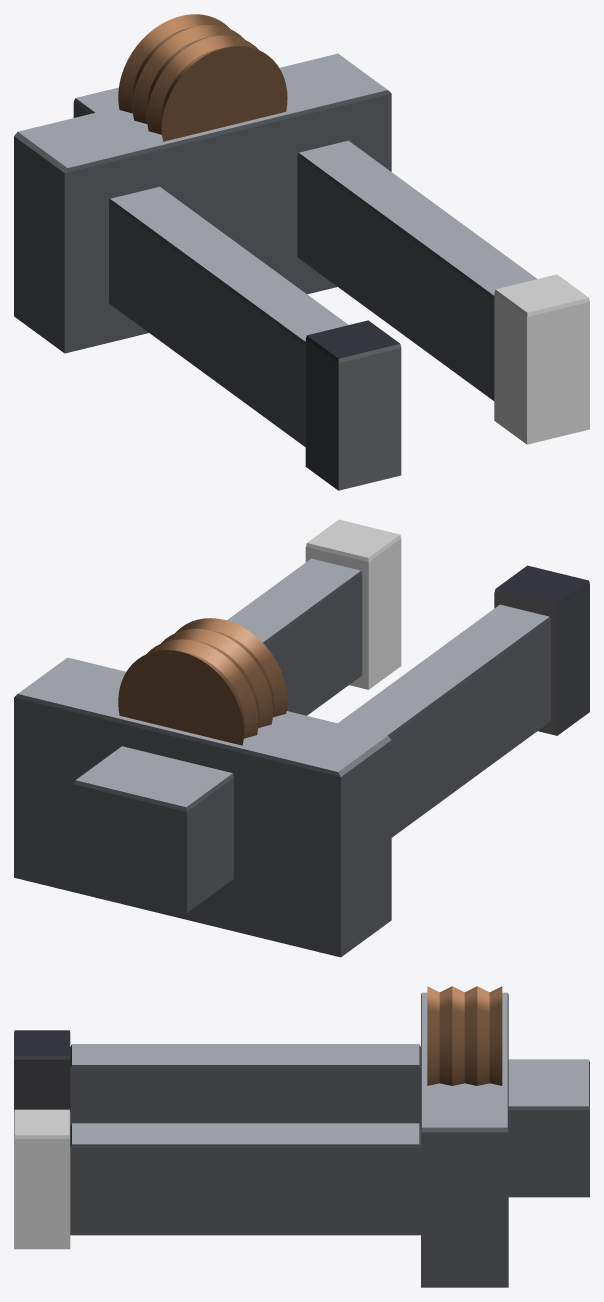
The model's file is pin_relay.glb.
The picture shows the model from 3 angles, top to bottom: view 1: azimuth 30°, elevation 25°; view 2: azimuth 150°, elevation 25°; view 3: azimuth 270°, elevation 25°; orthographic projection. The views are drawn at different scales.
Parts seen in each view (by area): view 1: Korpus, Licht; view 2: Korpus, Licht; view 3: Korpus, Licht.
Part boxes in pixels (bbox=[...]): Korpus: bbox=[14, 14, 536, 490]; Licht: bbox=[494, 274, 589, 444]; Korpus: bbox=[14, 558, 589, 957]; Licht: bbox=[305, 519, 401, 689]; Korpus: bbox=[14, 986, 589, 1287]; Licht: bbox=[14, 1109, 70, 1249].
Size of the model in its own units: 0.52 by 0.4 by 0.92.
